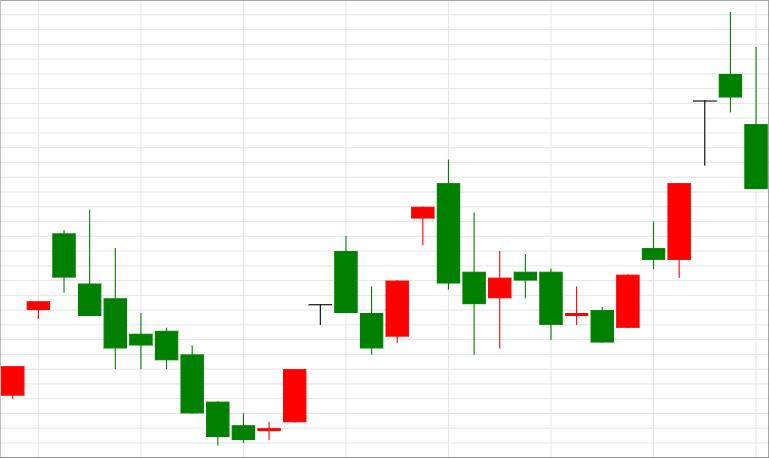shooting_star_fall: (616, 13, 742, 328)
